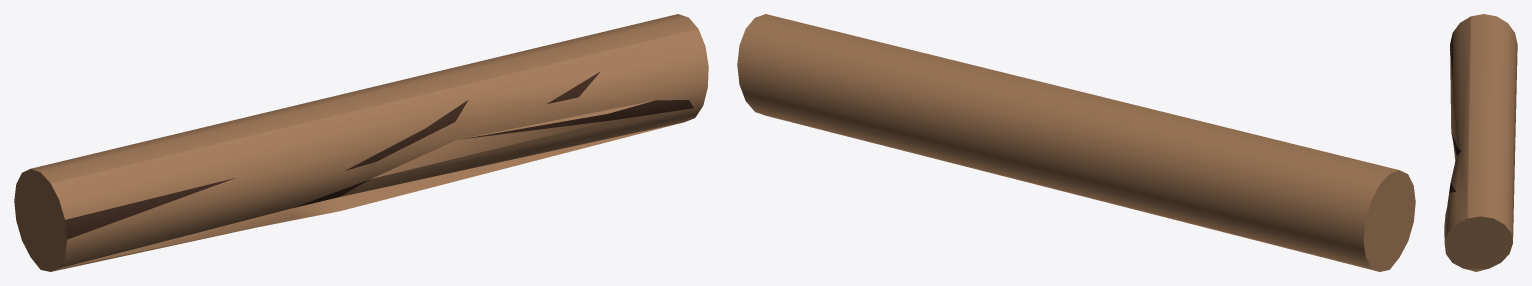
Rendered from BaseTrunk.fbx.
3 renders of one model, left to right at view 1: azimuth 30°, elevation 25°; view 2: azimuth 150°, elevation 25°; view 3: azimuth 270°, elevation 25°, orthographic. The views are drawn at different scales.
Visible parts, largest first — view 1: BaseTrunk; view 2: BaseTrunk; view 3: BaseTrunk.
Boxes of the visible parts, x1,y1,x2,y2 form: BaseTrunk: (14,14,708,271); BaseTrunk: (737,14,1415,271); BaseTrunk: (1444,14,1517,271).
Bounding box in the file's own units: 39.54 × 5.7 × 6.07.
Materials: 1 (1 with a texture image).
